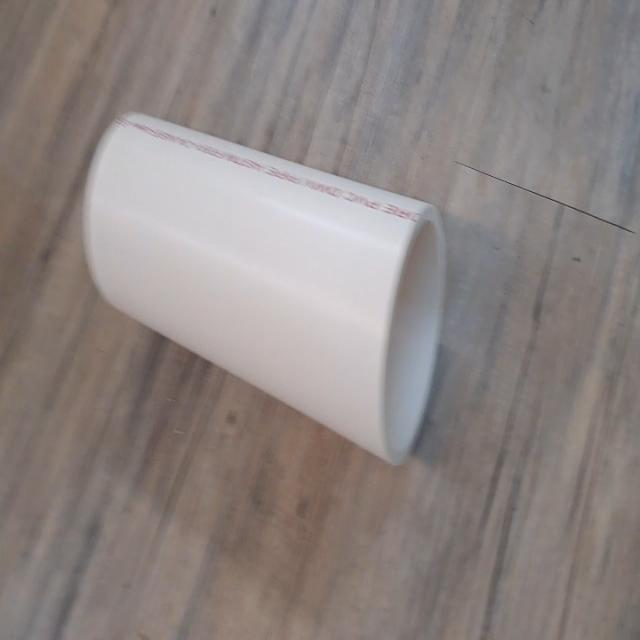CORAL: (76, 97, 450, 471)
